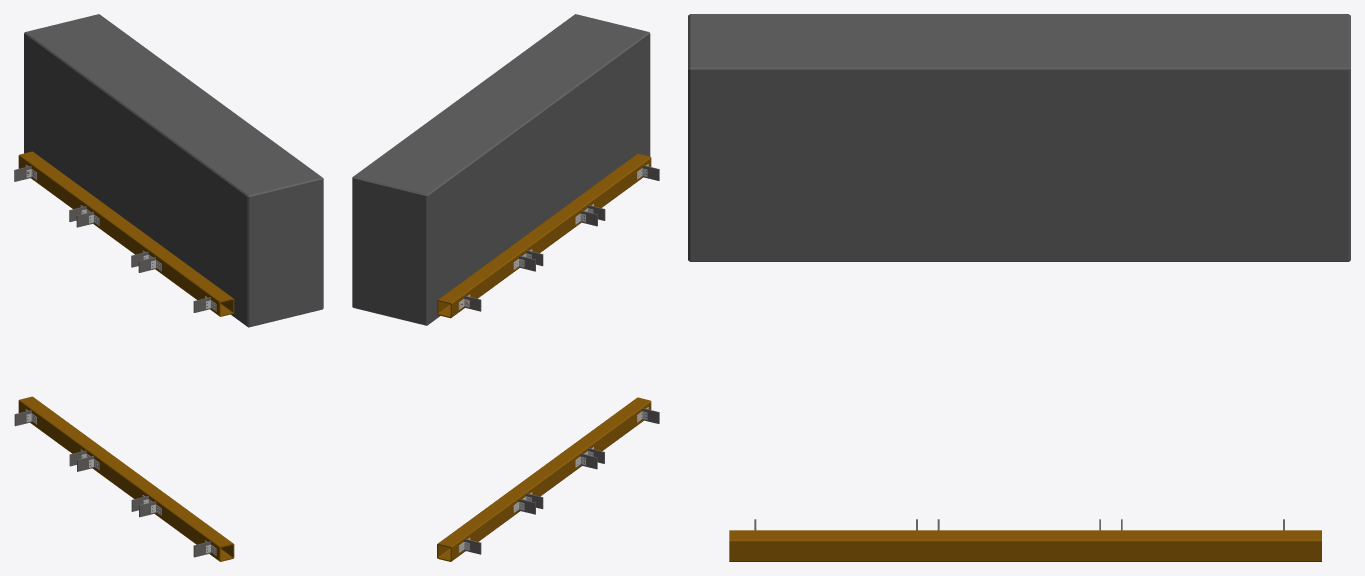
Rendered from PerfFacade_Skeleton.fbx.
3 views of the same model, side by side, from view 1: azimuth 30°, elevation 25°; view 2: azimuth 150°, elevation 25°; view 3: azimuth 270°, elevation 25° (orthographic). The views are drawn at different scales.
Visible parts, largest first — view 1: 0.1 CONCRETE, 0.2 SHS, 5 PLATE, 4 BRACKET; view 2: 0.1 CONCRETE, 0.2 SHS, 5 PLATE, 4 BRACKET; view 3: 0.1 CONCRETE, 0.2 SHS.
Boxes of the visible parts, x1,y1,x2,y2 form: 0.1 CONCRETE: [24, 14, 323, 327]; 0.2 SHS: [18, 151, 234, 561]; 5 PLATE: [14, 166, 210, 557]; 4 BRACKET: [25, 165, 216, 555]; 0.1 CONCRETE: [352, 14, 650, 325]; 0.2 SHS: [437, 153, 651, 561]; 5 PLATE: [464, 165, 659, 554]; 4 BRACKET: [458, 164, 648, 552]; 0.1 CONCRETE: [688, 14, 1350, 261]; 0.2 SHS: [729, 530, 1321, 561].
Size of the model in its own units: 295 by 1067 by 976.
